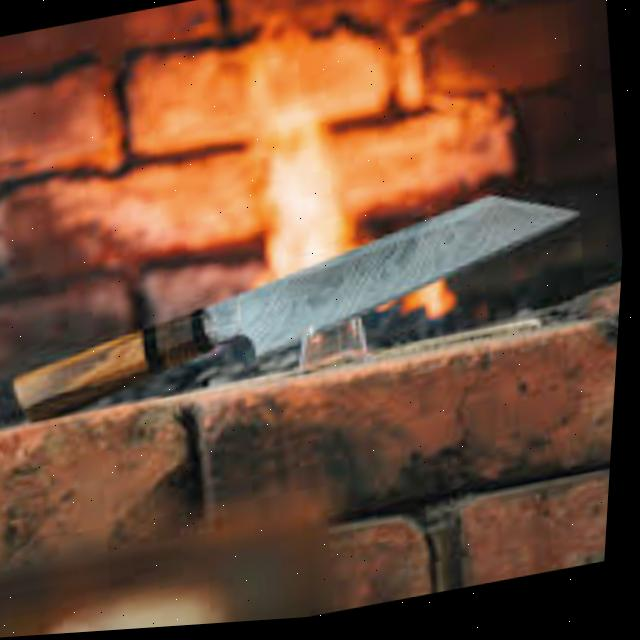knife: (2, 181, 597, 423)
